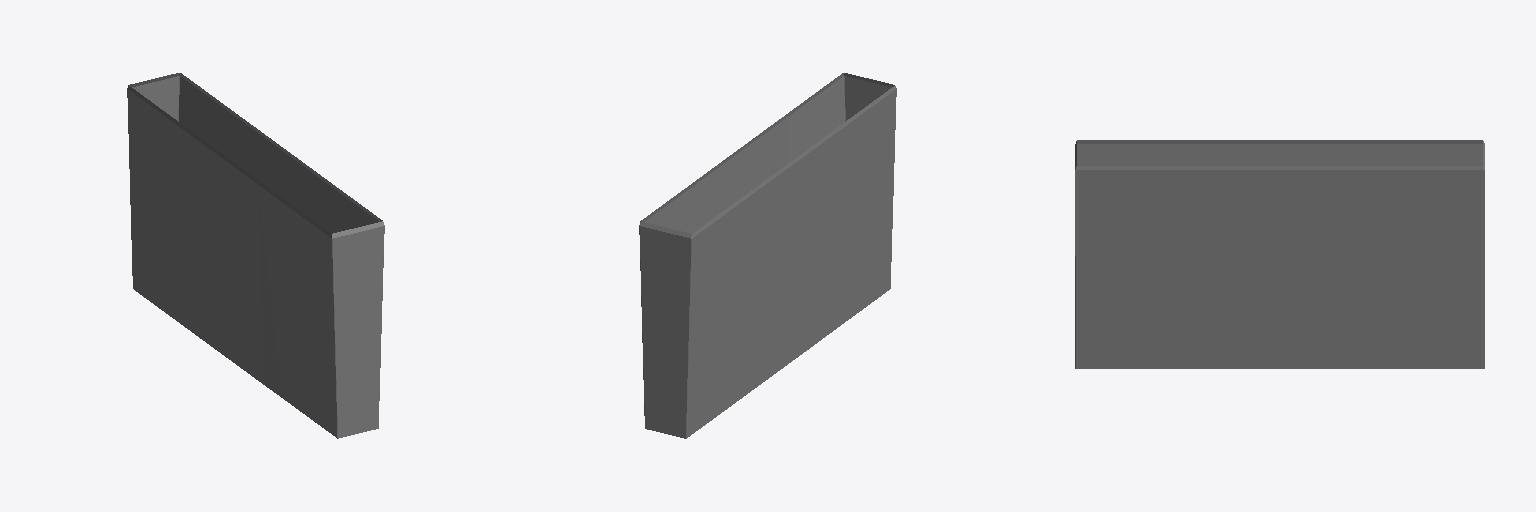
File: Plat_bas.obj
The picture shows the model from 3 angles: view 1: azimuth 30°, elevation 25°; view 2: azimuth 150°, elevation 25°; view 3: azimuth 270°, elevation 25°; orthographic projection.
Visible parts, largest first — view 1: bas_plat; view 2: bas_plat; view 3: bas_plat.
Part boxes in pixels (left/top/right/bottom): bas_plat: left=127, top=73, right=384, bottom=438; bas_plat: left=639, top=73, right=896, bottom=438; bas_plat: left=1075, top=140, right=1484, bottom=368.
Size of the model in its own units: 853 by 3177 by 5739.